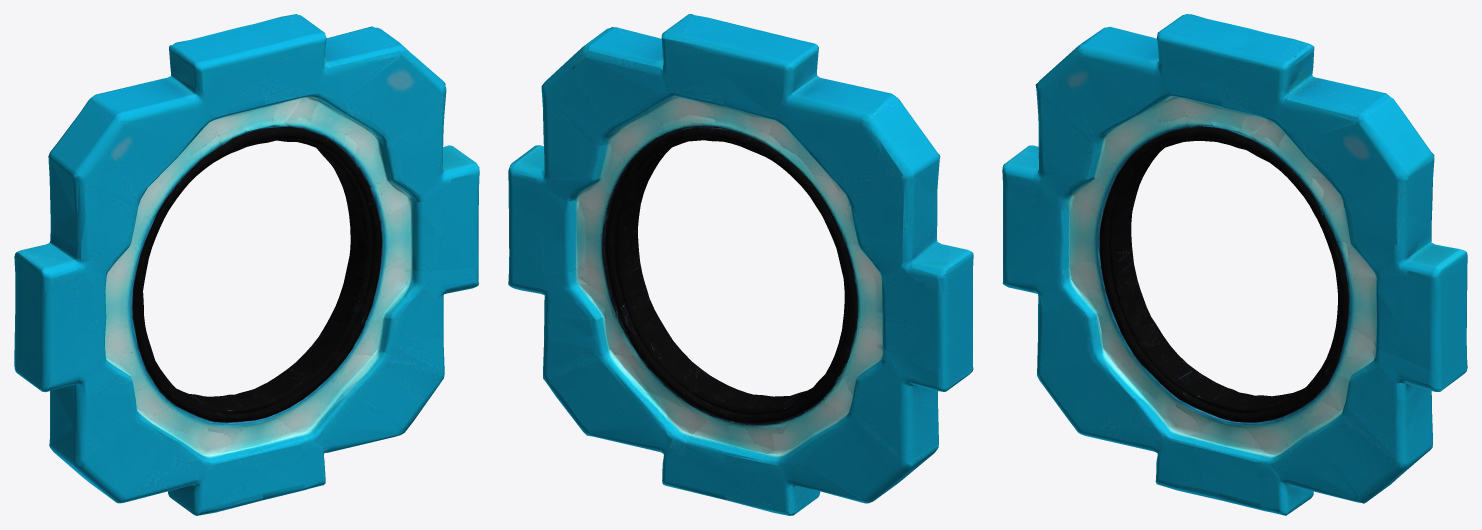
Rendered from portal-frame.glb.
3 views of the same model, side by side, from view 1: azimuth 30°, elevation 25°; view 2: azimuth 150°, elevation 25°; view 3: azimuth 330°, elevation 25° (orthographic).
Size of the model in its own units: 1 by 0.9961 by 0.1318.
1 material, 1 textured.
